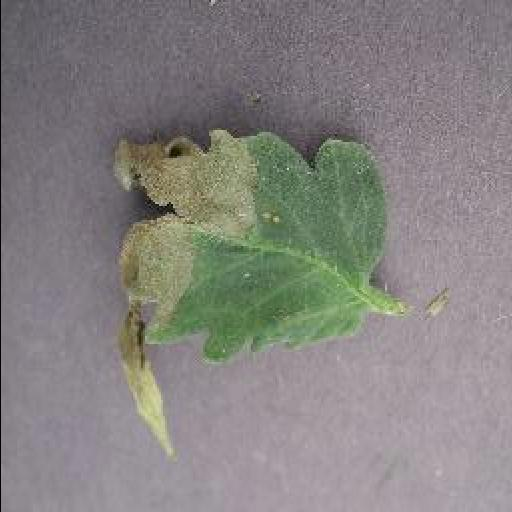disease_tomato: (106, 125, 390, 455)
